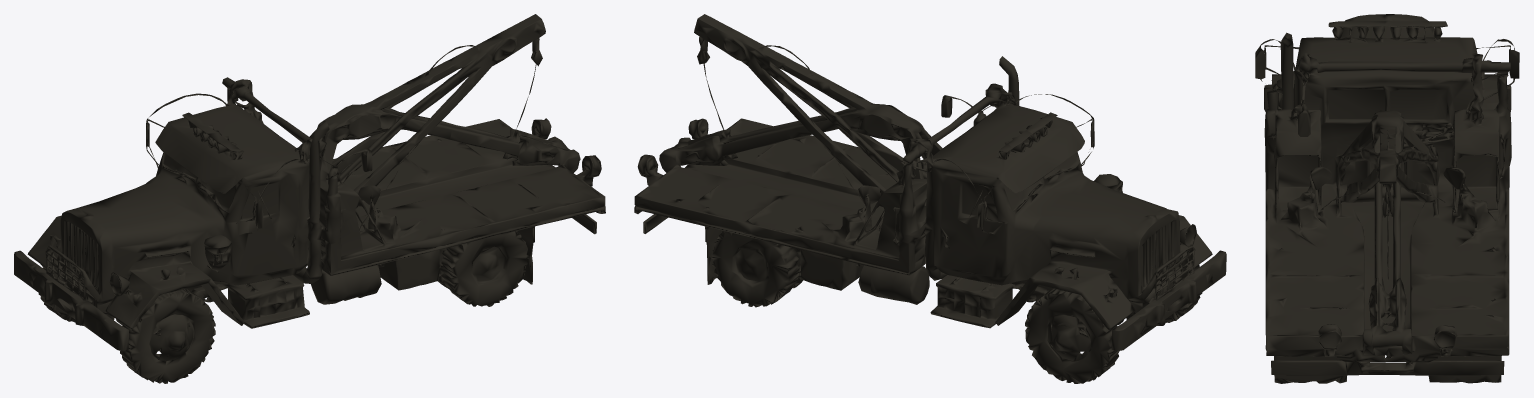
The model's file is car_towtruck_light_q0.glb.
3 views of the same model, side by side, from view 1: azimuth 30°, elevation 25°; view 2: azimuth 150°, elevation 25°; view 3: azimuth 270°, elevation 25° (orthographic). The views are drawn at different scales.
Size of the model in its own units: 5.33 by 2.3 by 2.08.
Materials: 1 (1 with a texture image).
